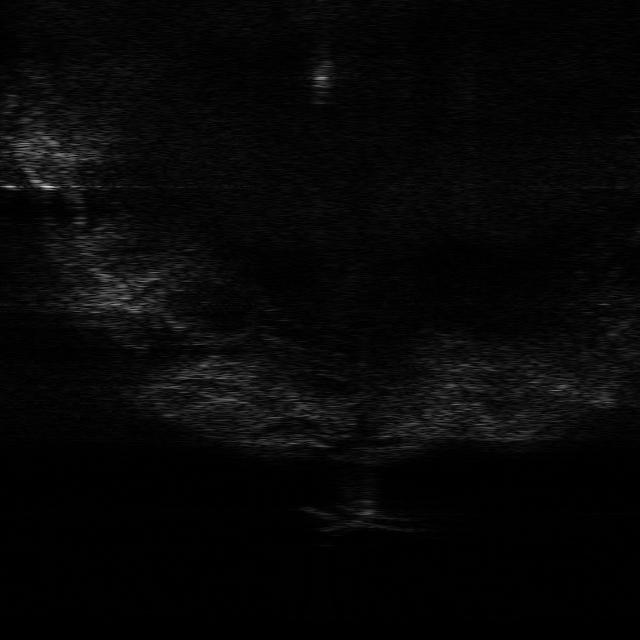plane: (296, 502, 414, 532)
